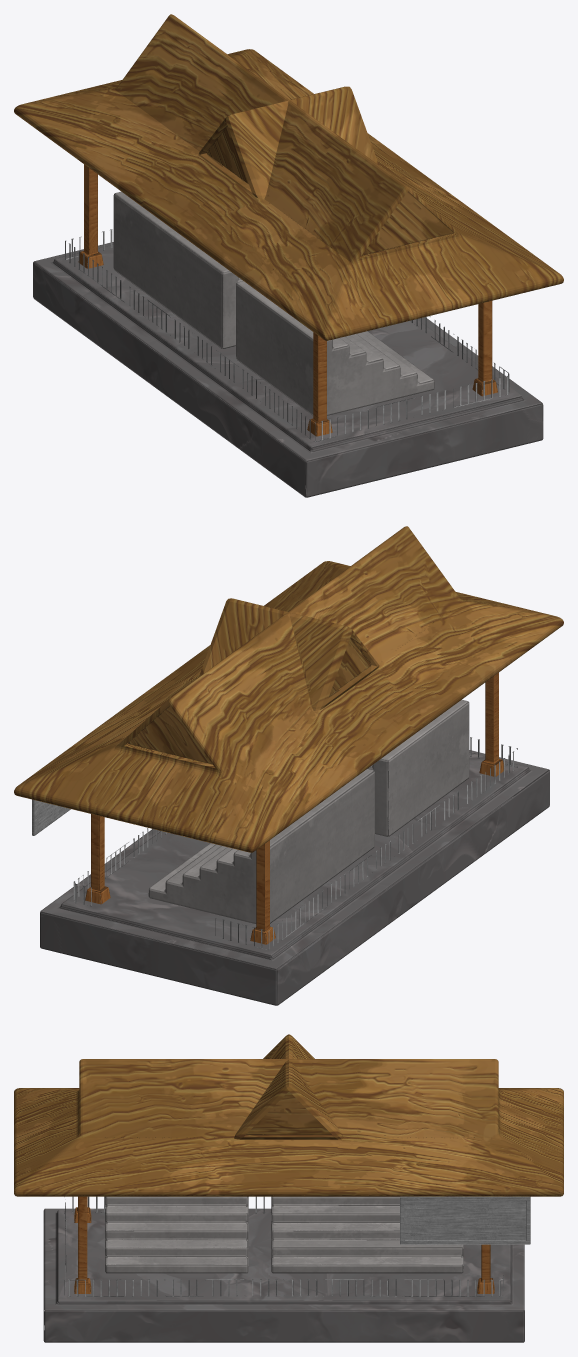
File: TRIBUNE.fbx
The picture shows the model from 3 angles, top to bottom: view 1: azimuth 30°, elevation 25°; view 2: azimuth 150°, elevation 25°; view 3: azimuth 270°, elevation 25°; orthographic projection. The views are drawn at different scales.
Visible parts, largest first — view 1: Plane, Plane.002, Plane.003, Cube, Plane.004; view 2: Plane, Plane.002, Plane.003, Cube, Plane.004, Plane.005; view 3: Plane, Plane.002, Plane.003, Plane.005, Plane.004, Cube.
Boxes of the visible parts, box(x1,y1,x2,y2) form: Plane: box(14, 14, 563, 340); Plane.002: box(33, 242, 543, 497); Plane.003: box(113, 191, 434, 415); Cube: box(78, 164, 497, 436); Plane.004: box(65, 229, 509, 442); Plane: box(14, 526, 563, 852); Plane.002: box(40, 750, 549, 1005); Plane.003: box(148, 699, 469, 923); Cube: box(85, 672, 503, 944); Plane.004: box(73, 737, 517, 950); Plane.005: box(32, 799, 70, 835); Plane: box(14, 1034, 563, 1196); Plane.002: box(43, 1208, 524, 1342); Plane.003: box(105, 1196, 463, 1273); Plane.005: box(400, 1196, 530, 1244); Plane.004: box(64, 1196, 503, 1296); Cube: box(74, 1196, 494, 1293).
Bounding box in the file's own units: 511 × 537 × 1141.
Materials: 1 (1 with a texture image).
